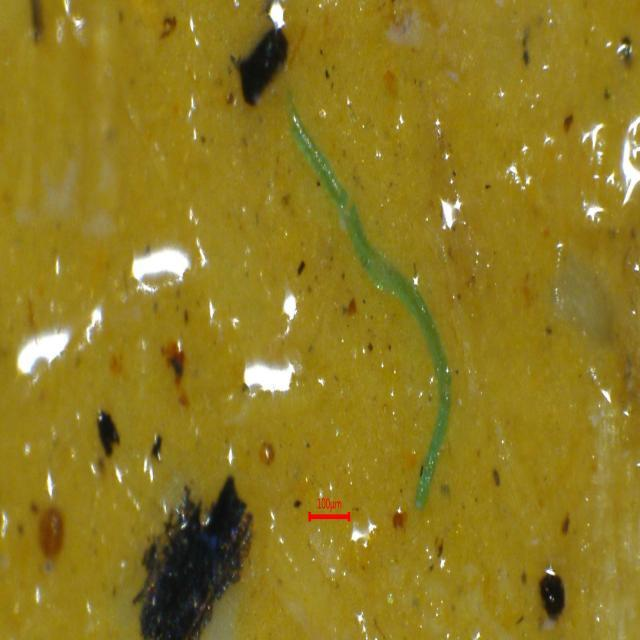fibers: (268, 75, 494, 510)
fragments: (215, 15, 305, 113), (536, 566, 571, 628), (0, 1, 0, 1)
